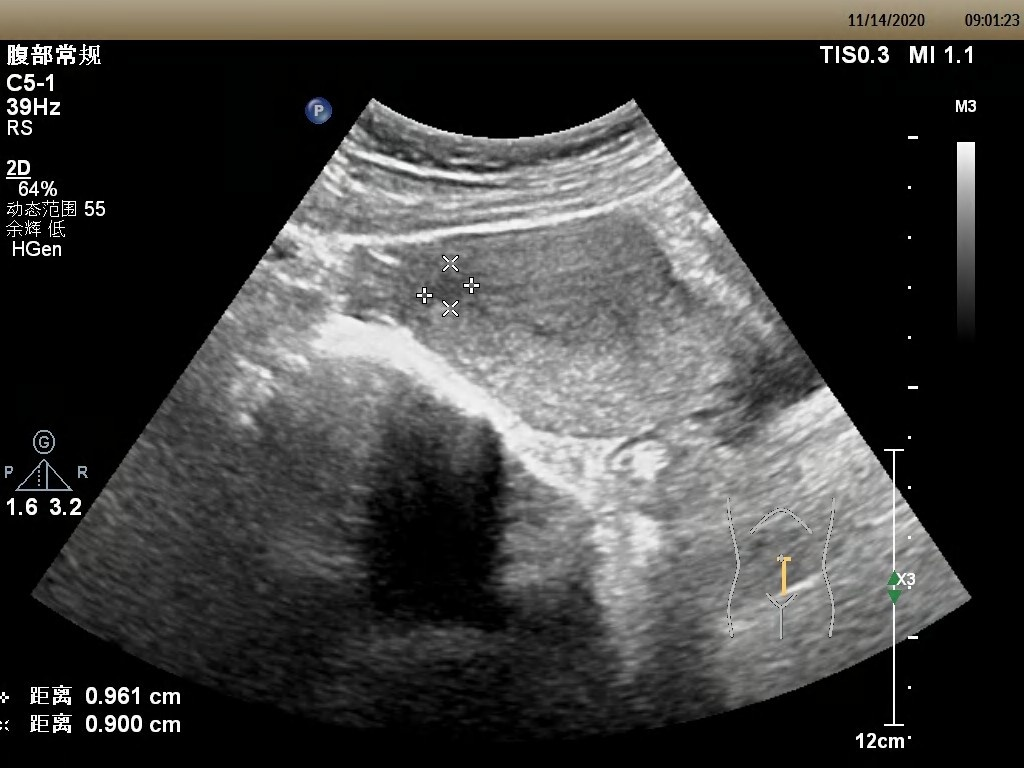肌瘤: (429, 278, 474, 302)
